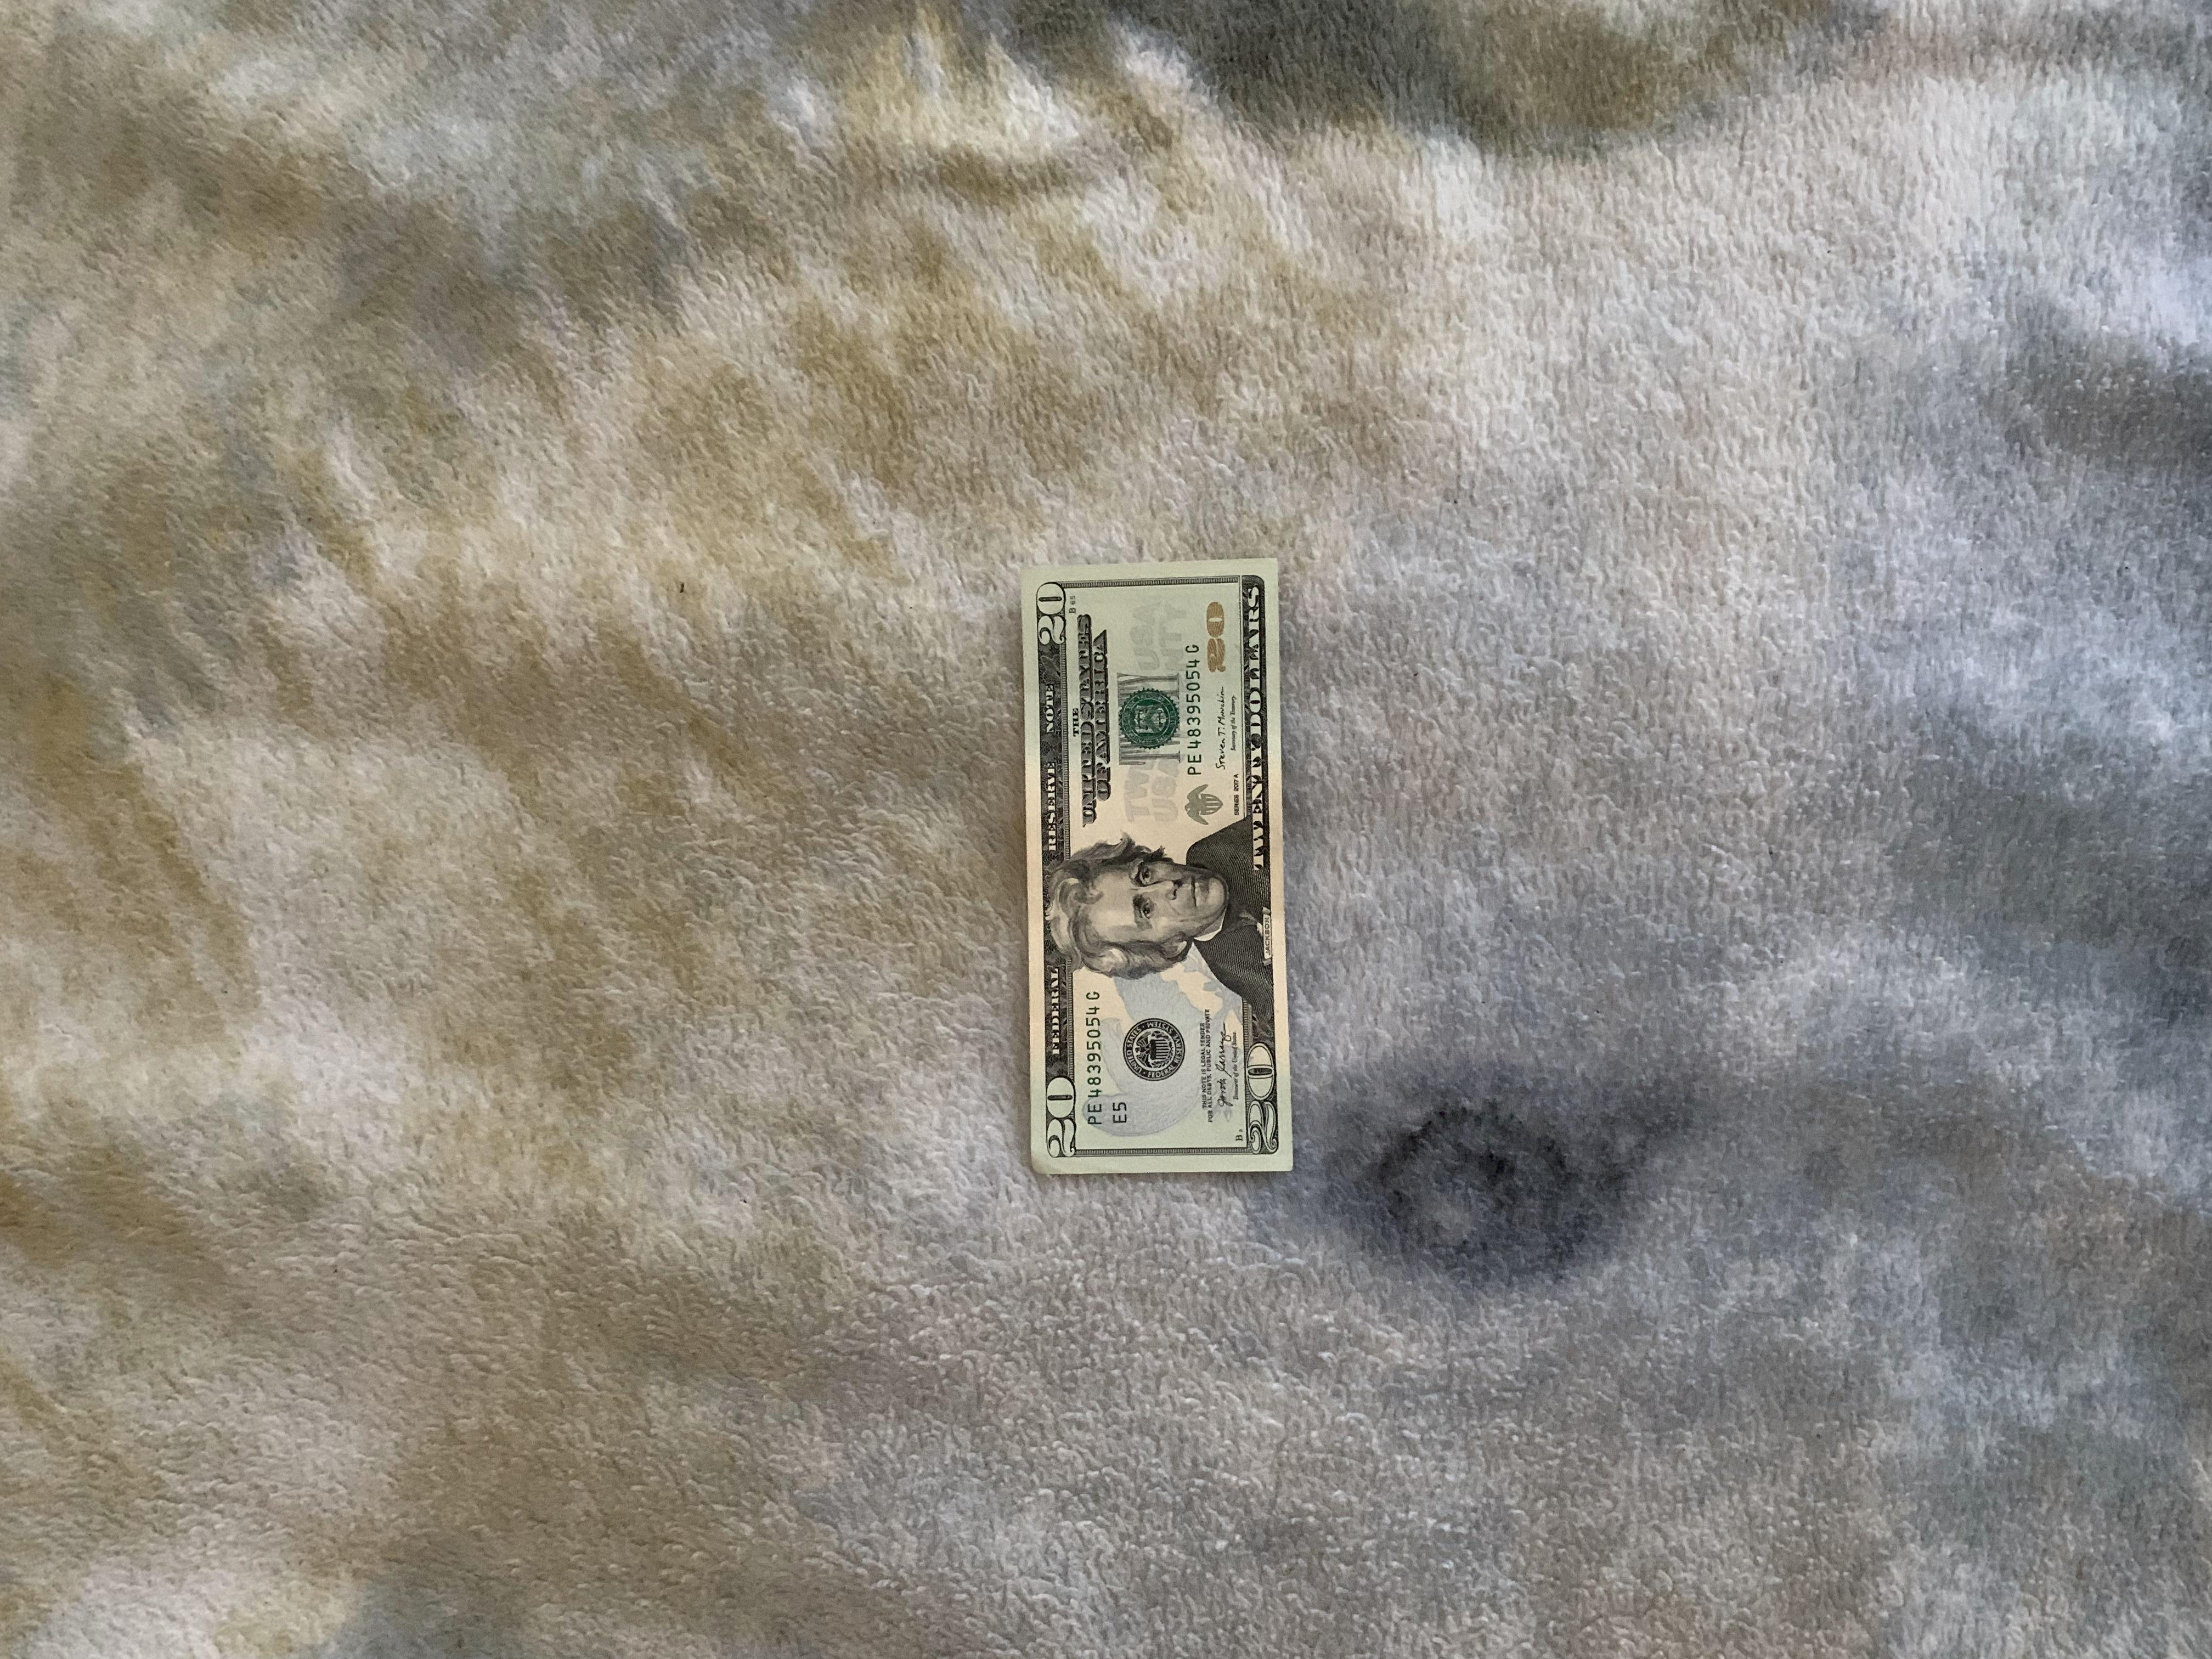TwentyBill: (1021, 558, 1310, 1178)
